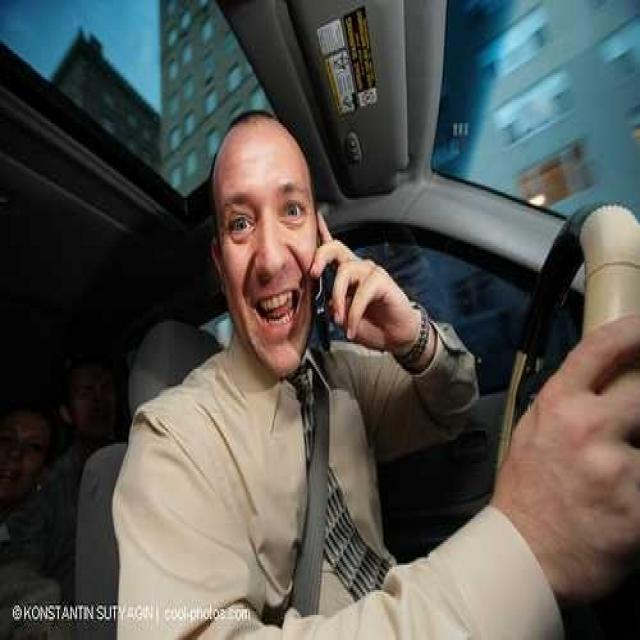seatbelt: (258, 321, 344, 617)
